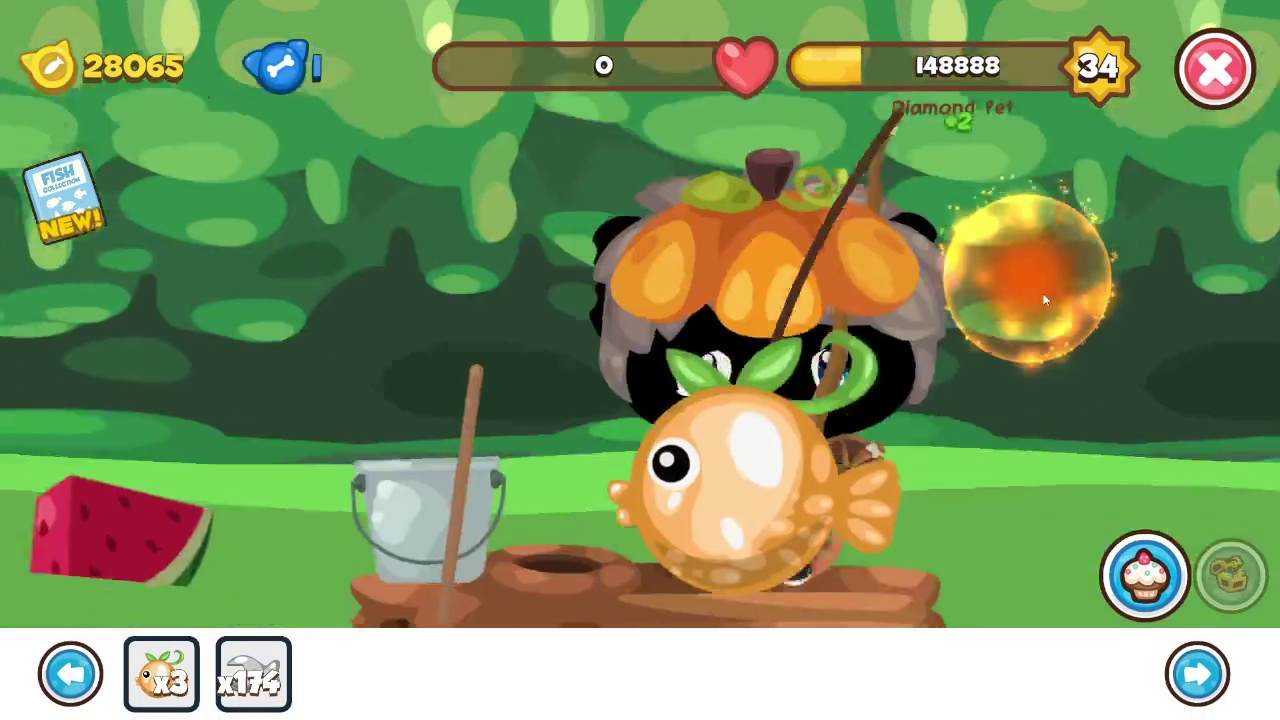point: (943, 192, 1116, 365)
